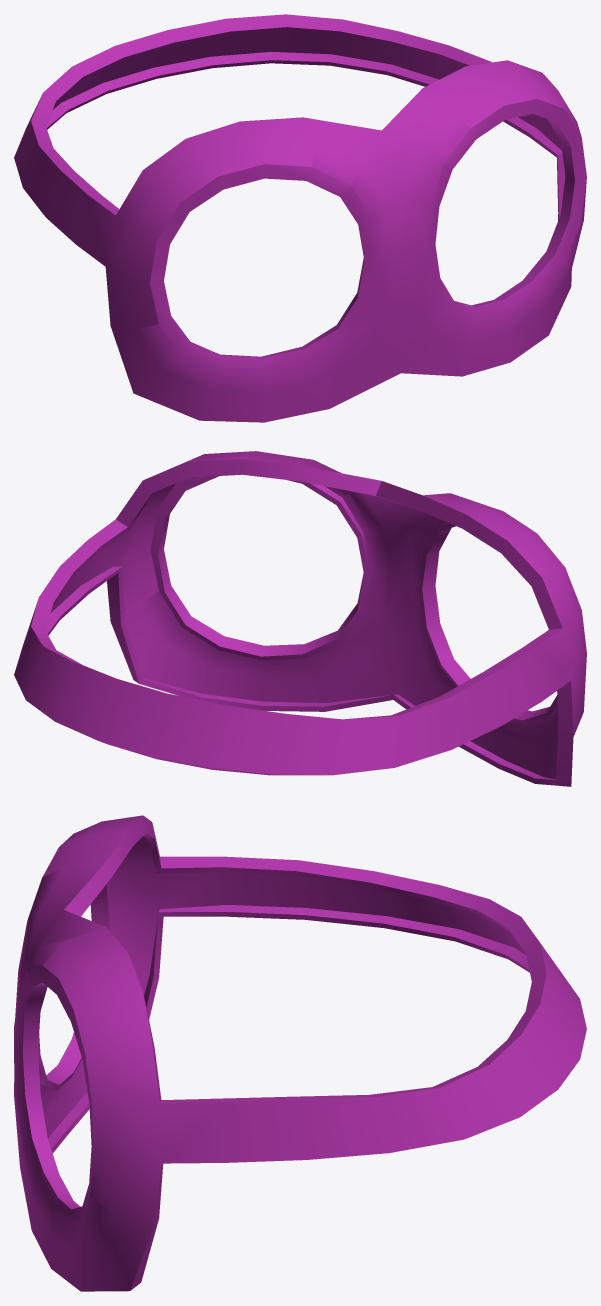
Rendered from MaskPickup.fbx.
The picture shows the model from 3 angles, top to bottom: view 1: azimuth 30°, elevation 25°; view 2: azimuth 150°, elevation 25°; view 3: azimuth 270°, elevation 25°; orthographic projection. The views are drawn at different scales.
Visible parts, largest first — view 1: Mask; view 2: Mask; view 3: Mask.
Boxes of the visible parts, x1,y1,x2,y2 form: Mask: (14,14,586,422); Mask: (14,451,586,786); Mask: (14,815,586,1291).
Bounding box in the file's own units: 1 × 0.561 × 0.9448.
